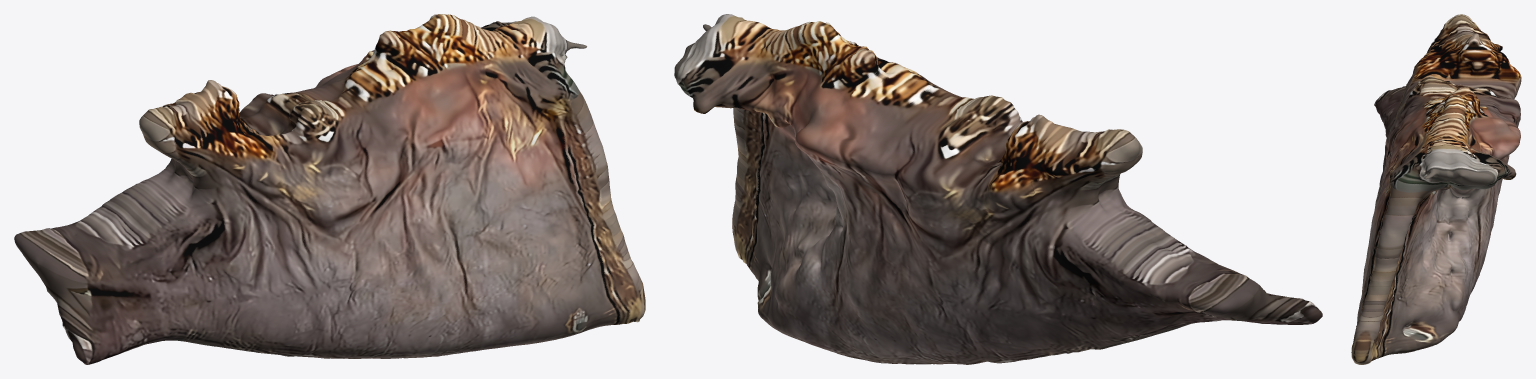
Rendered from kfl-2192.glb.
3 renders of one model, left to right at view 1: azimuth 30°, elevation 25°; view 2: azimuth 150°, elevation 25°; view 3: azimuth 270°, elevation 25°, orthographic. The views are drawn at different scales.
Visible parts, largest first — view 1: kfl-2192; view 2: kfl-2192; view 3: kfl-2192.
Part boxes in pixels (bbox=[...]): kfl-2192: bbox=[14, 14, 645, 364]; kfl-2192: bbox=[674, 14, 1322, 364]; kfl-2192: bbox=[1351, 14, 1521, 364].
Size of the model in its own units: 0.9895 by 0.5289 by 0.3504.
1 material, 1 textured.
